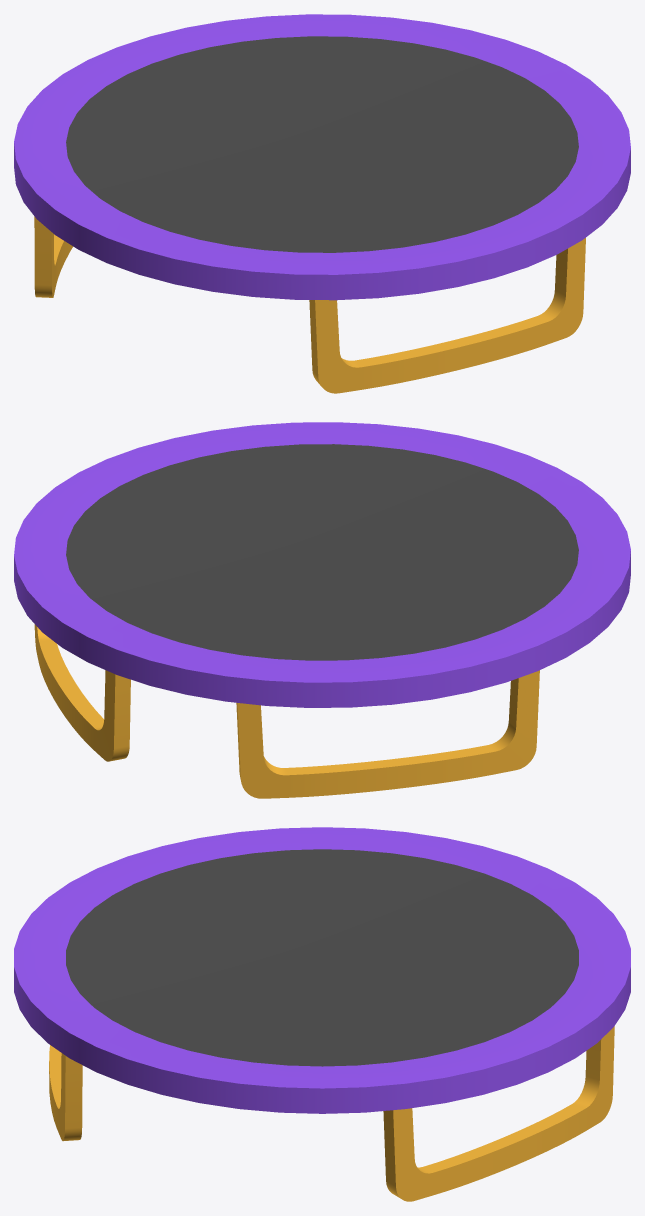
Rendered from Trampline Circle.fbx.
3 renders of one model, top to bottom at view 1: azimuth 30°, elevation 25°; view 2: azimuth 150°, elevation 25°; view 3: azimuth 270°, elevation 25°, orthographic.
Visible parts, largest first — view 1: Trampline Circle; view 2: Trampline Circle; view 3: Trampline Circle.
Part boxes in pixels (x1,y1,x2,y2): Trampline Circle: (14,14,630,393); Trampline Circle: (14,422,630,798); Trampline Circle: (14,827,630,1201).
Bounding box in the file's own units: 170 × 38.15 × 170.
